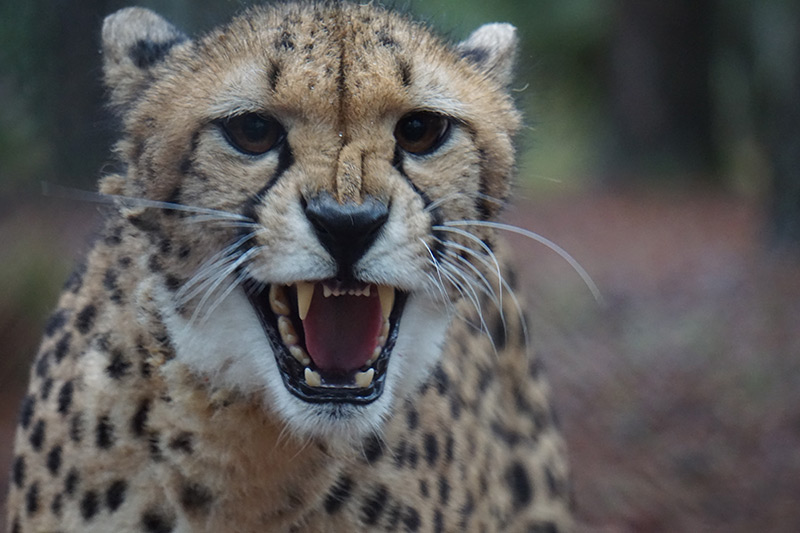cheetah: (65, 2, 543, 455)
